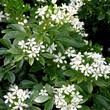flower: (3, 91, 16, 107), (52, 52, 65, 63), (43, 41, 56, 52), (14, 100, 28, 110), (26, 49, 41, 58), (26, 35, 38, 46), (64, 48, 77, 58), (39, 89, 50, 98), (17, 37, 26, 48)
